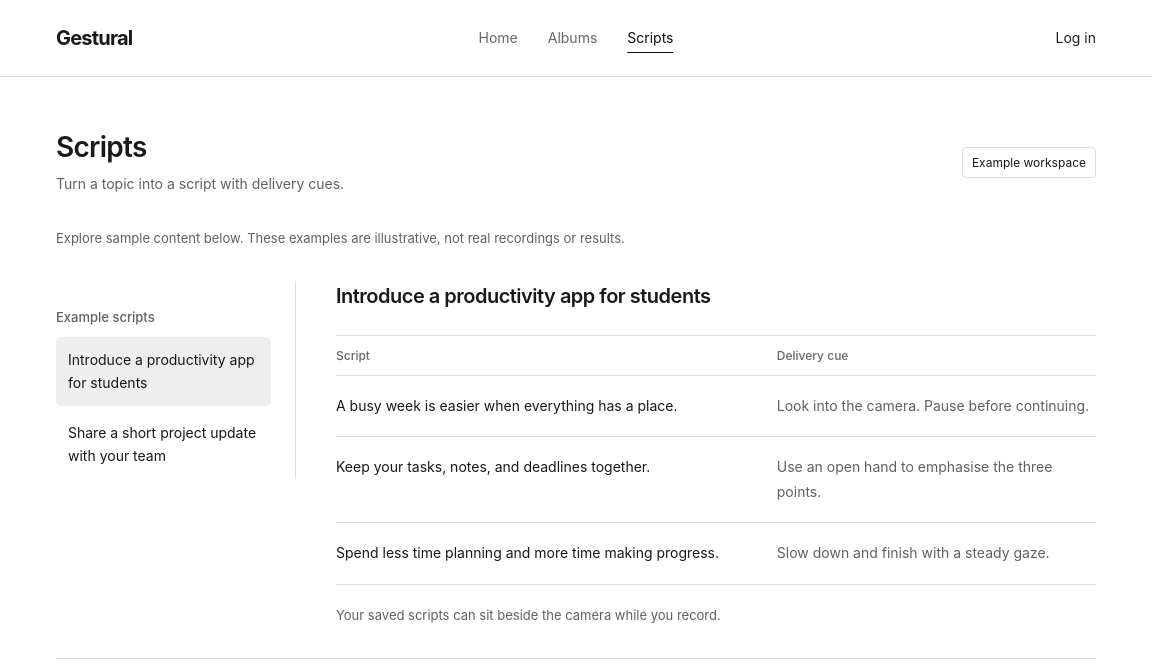
Test case: shows selectable scripts without fetching private scripts
expect the table is shown: met, box x1=336 y1=335 x2=1096 y2=585
Click the button "Share a short project update with your team" at (164, 445), box x1=56 y1=410 x2=271 y2=479
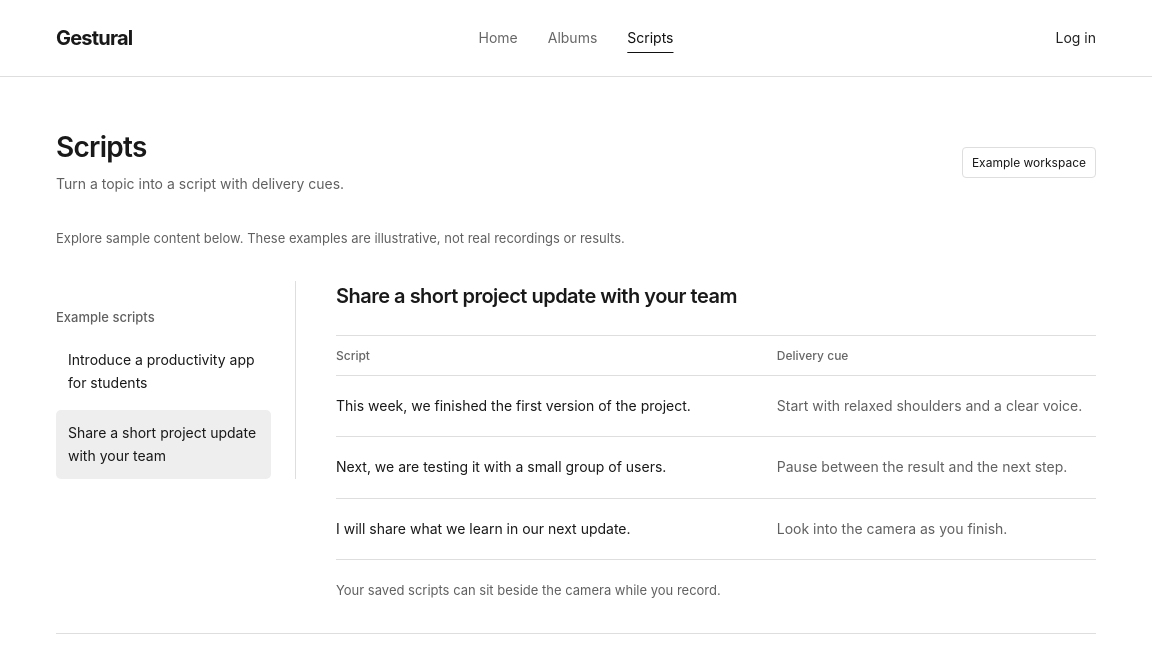
expect the text "This week, we finished the first version of the project." is shown: met, box x1=336 y1=375 x2=777 y2=437
